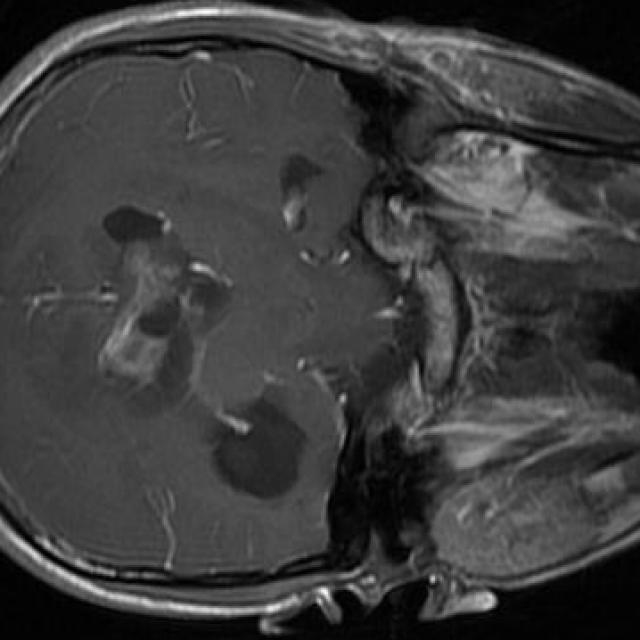glioma: (98, 205, 232, 412)
